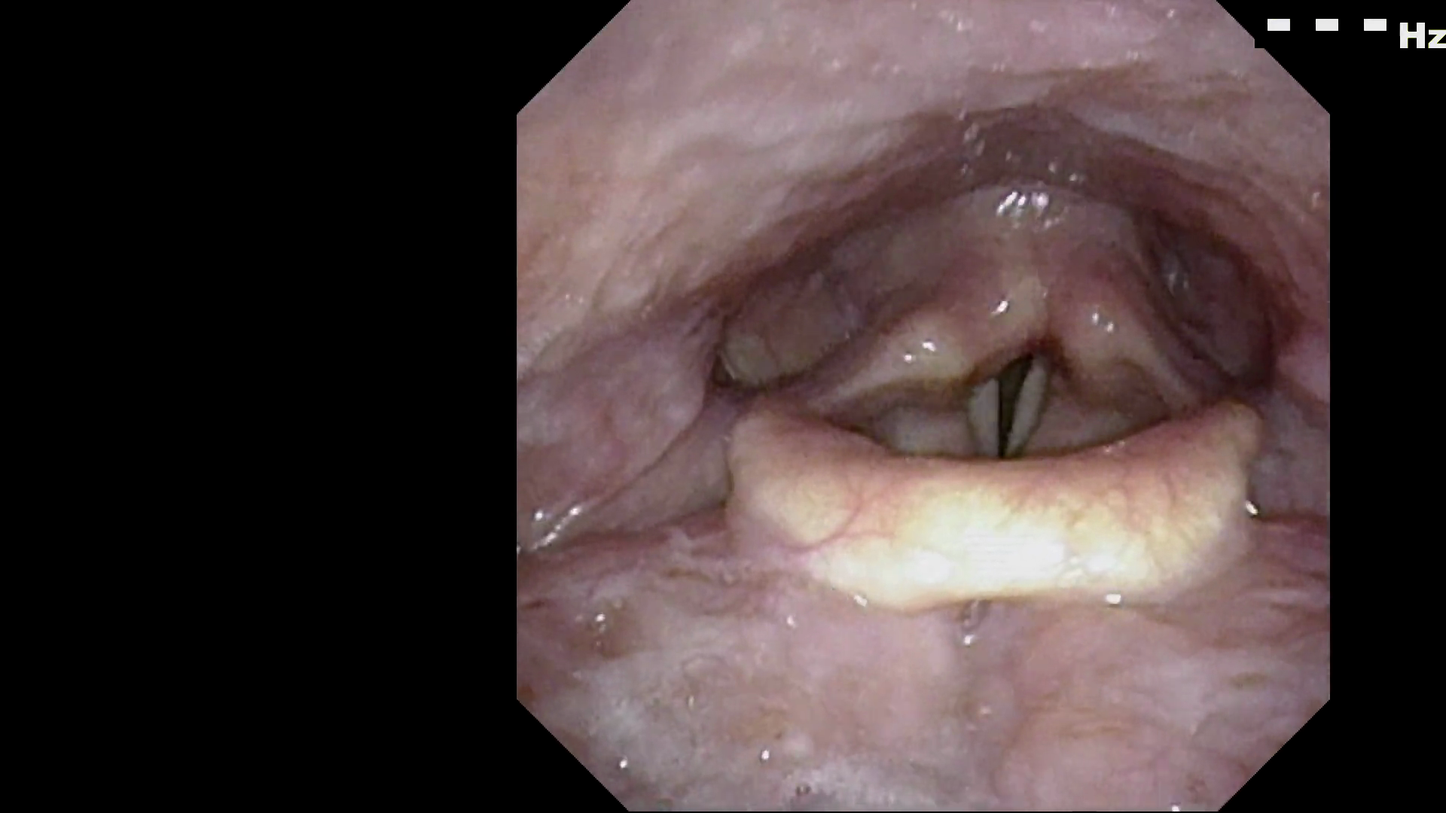epiglottis: (707, 406, 1259, 633)
trachea: (931, 304, 1088, 501)
